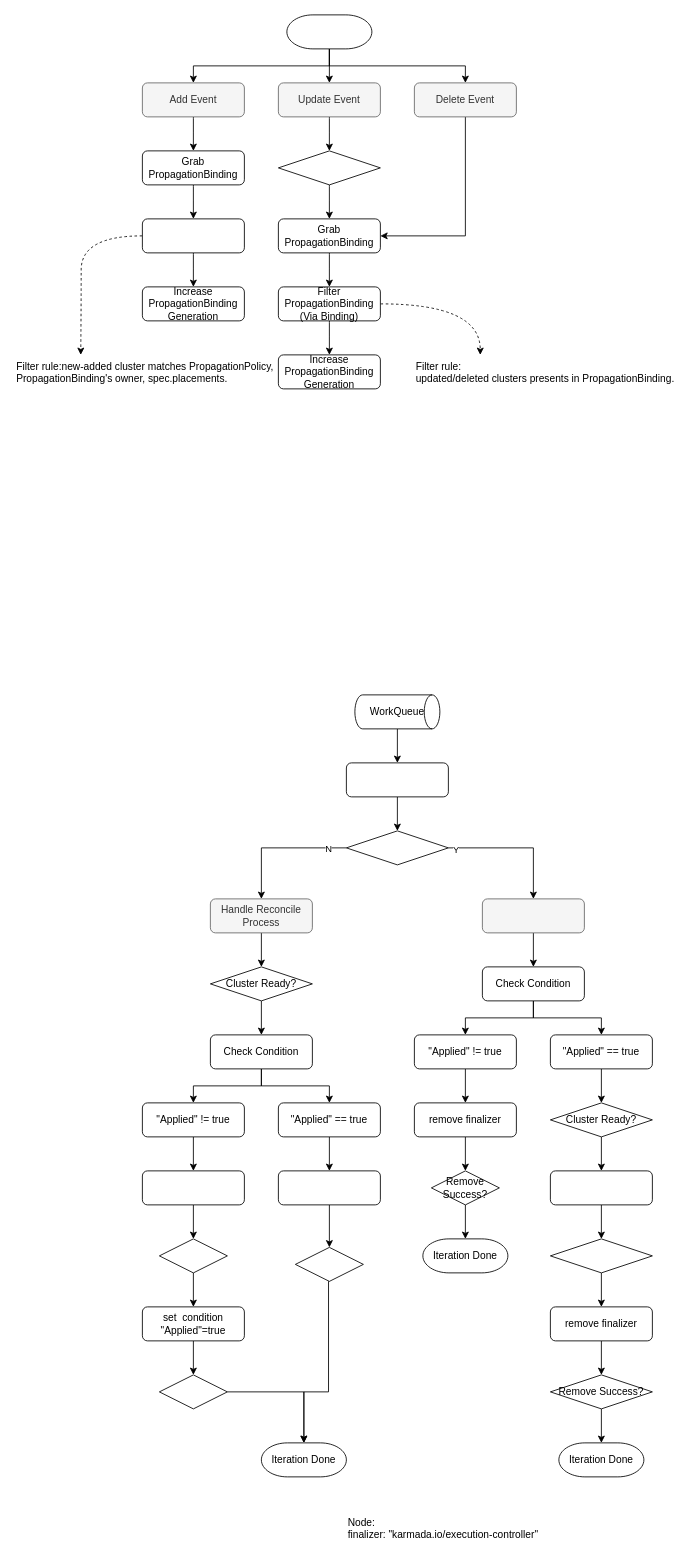
Image size: 692x1560. Some labels were removed from this diagram. The centre of each missing label's shape, as x and y in pixels:
"Cluster Status?" belongs at [329,167].
"create success" belongs at [193,1255].
"create workload" belongs at [193,1187].
"Delete Success?" belongs at [601,1255].
"delete workload from member cluster" belongs at [601,1187].
"Deleting?" belongs at [397,847].
"Filter PropagationBinding (Via Policy)" belongs at [193,235].
"Handle Delete Process" belongs at [533,915].
"Informer (MemberCluster)" belongs at [329,31].
"Iterate Item" belongs at [397,779].
"set condition success" belongs at [193,1391].
"update success" belongs at [329,1264].
"update workload" belongs at [329,1187].
